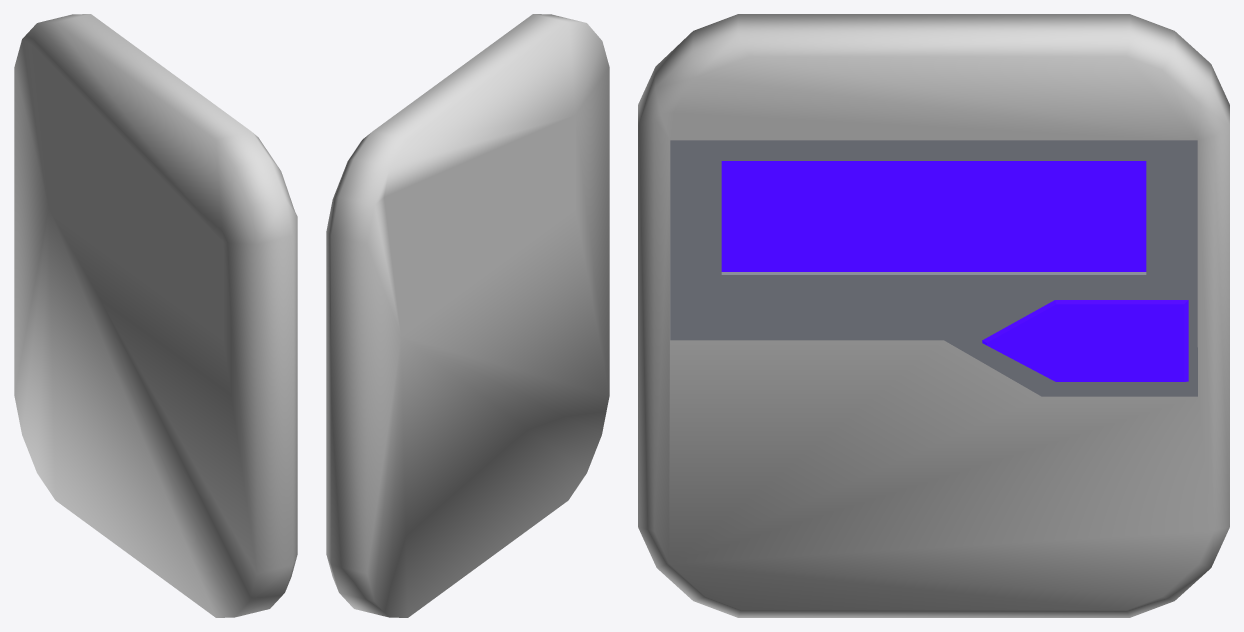
Rendered from AirConditioner.fbx.
3 renders of one model, left to right at view 1: azimuth 30°, elevation 25°; view 2: azimuth 150°, elevation 25°; view 3: azimuth 270°, elevation 25°, orthographic. The views are drawn at different scales.
Visible parts, largest first — view 1: airConditioner; view 2: airConditioner; view 3: airConditioner, airConditioner.001.
Boxes of the visible parts, <box> form: airConditioner: <box>14,14,297,617</box>; airConditioner: <box>326,14,609,617</box>; airConditioner: <box>638,14,1229,617</box>; airConditioner.001: <box>721,161,1188,381</box>.
Size of the model in its own units: 24.37 by 217 by 200.
